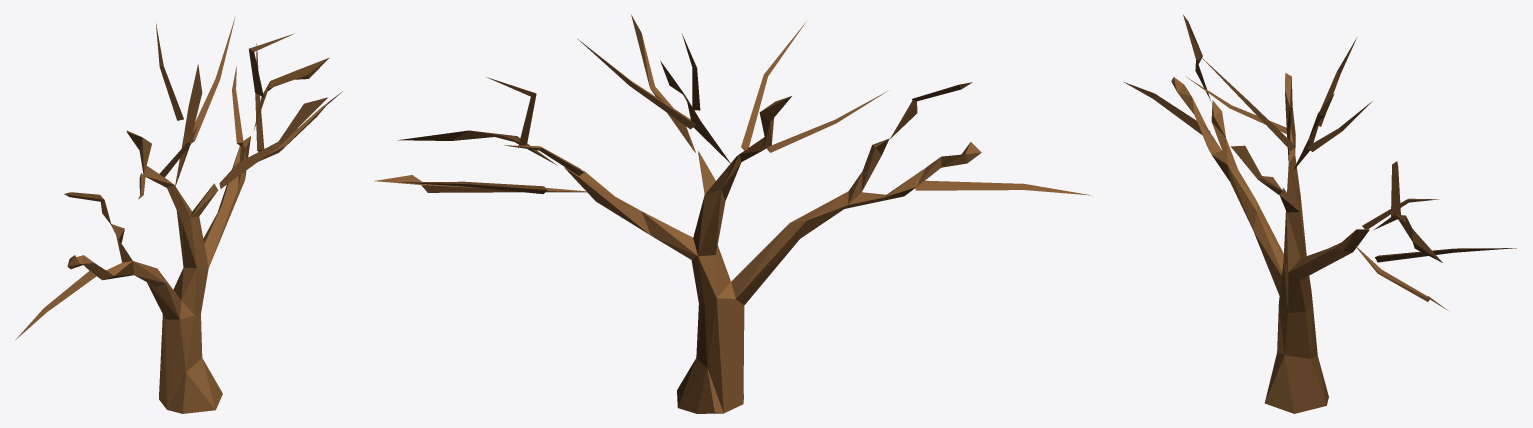
Rendered from guayacan_2_bare_far.glb.
3 views of the same model, side by side, from view 1: azimuth 30°, elevation 25°; view 2: azimuth 150°, elevation 25°; view 3: azimuth 270°, elevation 25° (orthographic). The views are drawn at different scales.
Parts seen in each view (by area): view 1: guayacan_2_bare_far; view 2: guayacan_2_bare_far; view 3: guayacan_2_bare_far.
Part boxes in pixels (x1,y1,x2,y2): guayacan_2_bare_far: (15,16,342,413); guayacan_2_bare_far: (374,14,1092,413); guayacan_2_bare_far: (1124,14,1516,413).
Size of the model in its own units: 9.01 by 6.25 by 6.22.
